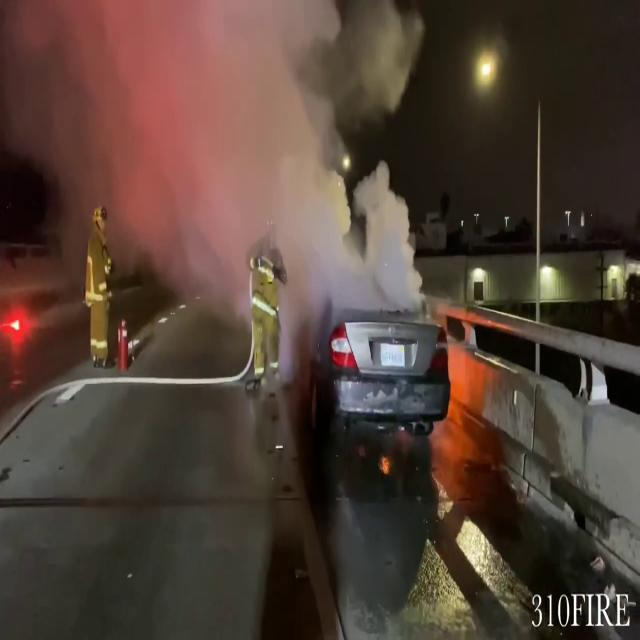Smoke: (0, 0, 419, 357)
